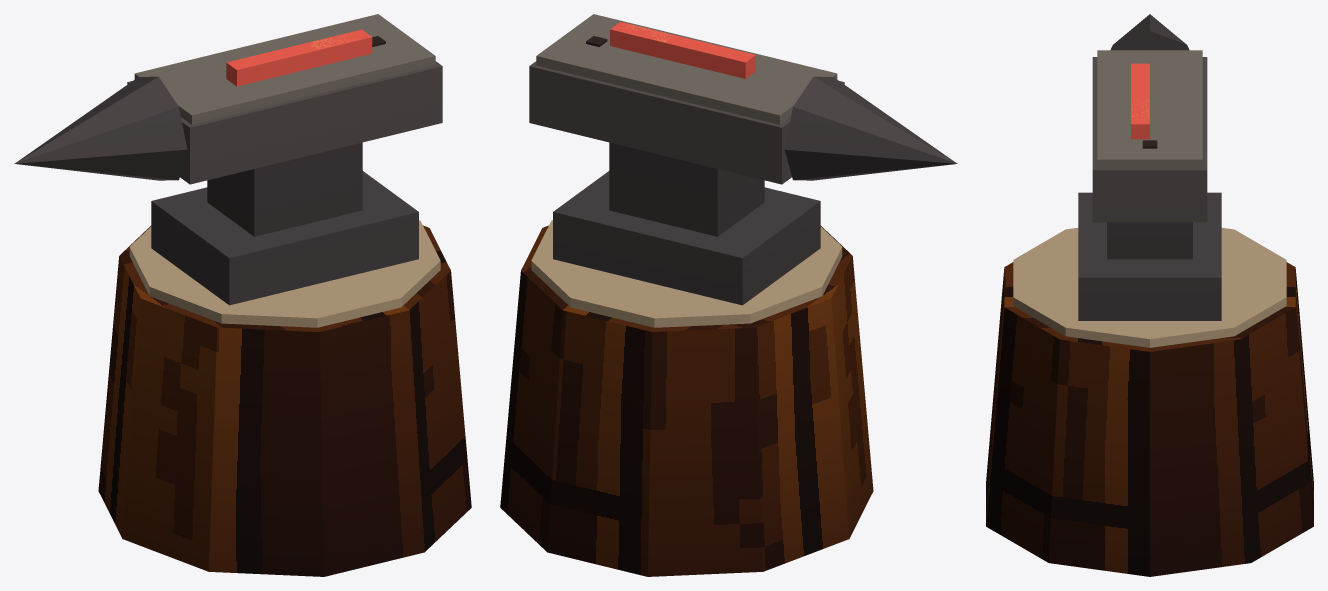
Rendered from forge_anvil.glb.
The picture shows the model from 3 angles, left to right: view 1: azimuth 30°, elevation 25°; view 2: azimuth 150°, elevation 25°; view 3: azimuth 270°, elevation 25°; orthographic projection. The views are drawn at different scales.
Parts seen in each view (by area): view 1: forge_anvil; view 2: forge_anvil; view 3: forge_anvil.
Boxes of the visible parts, x1=… form: forge_anvil: x1=14, y1=14, x2=471, y2=576; forge_anvil: x1=500, y1=14, x2=957, y2=576; forge_anvil: x1=986, y1=14, x2=1313, y2=576.
Size of the model in its own units: 0.96 by 0.96 by 0.6848.
3 materials, 1 textured.
